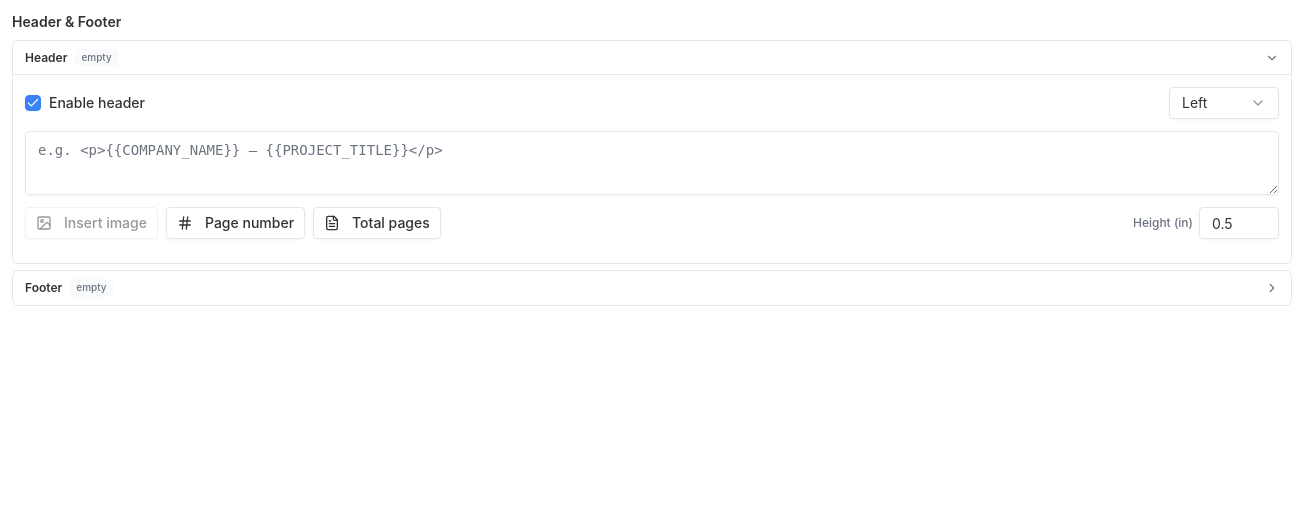
Test case: TemplateFurniturePanel — collapsible structure › only renders a group body once expanded
What coordinates should you click on to do the following:
click the button "Footer empty"
I would click on:
 (44, 287)
Its box is x1=13 y1=271 x2=1291 y2=305.
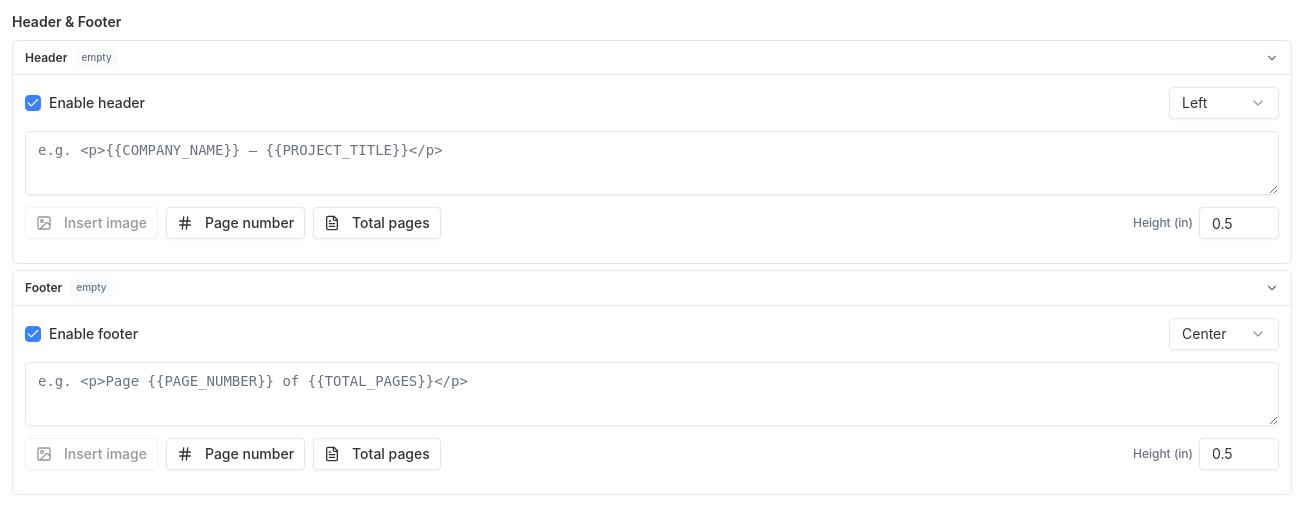
Expected: the text box named "Footer content" is shown, x1=25 y1=362 x2=1279 y2=426
